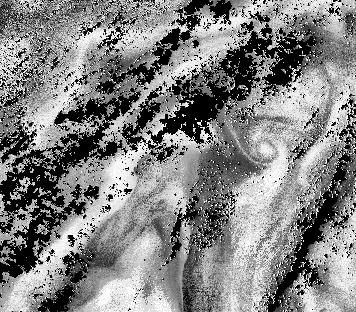CE: (242, 114, 283, 165)
